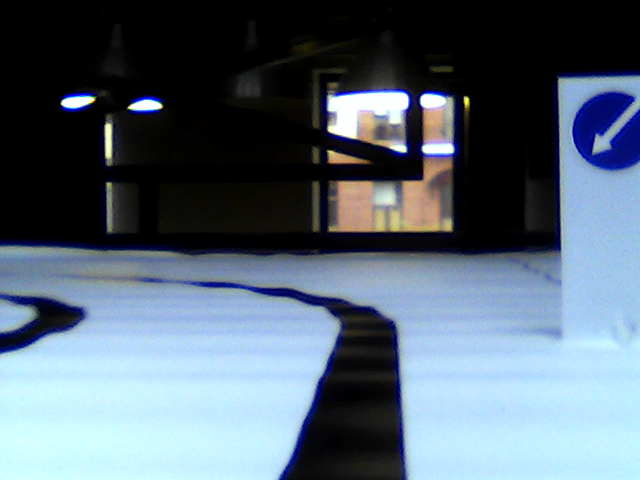prep: (570, 90, 640, 175)
